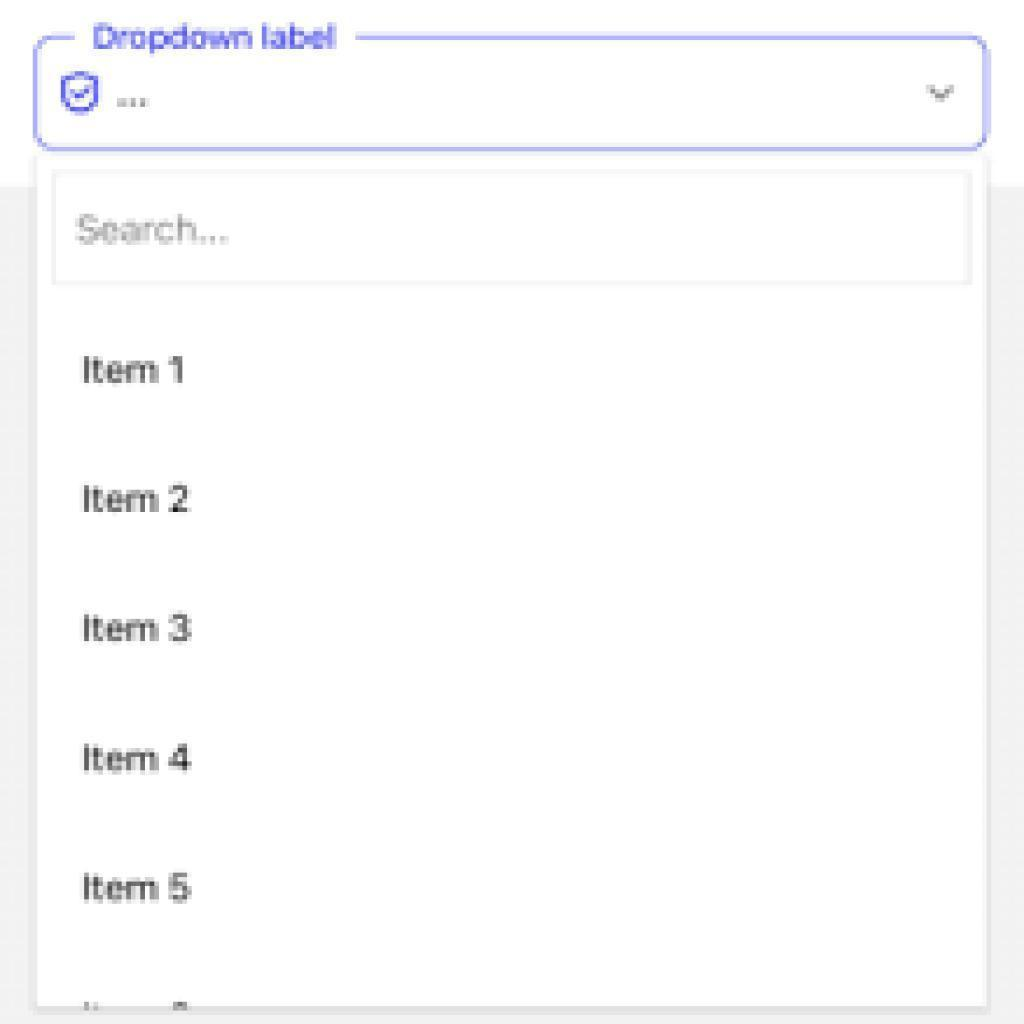dropdown: (34, 40, 987, 151)
input: (53, 170, 971, 284)
label: (76, 729, 216, 788), (87, 17, 336, 49), (77, 863, 207, 914), (77, 601, 199, 649), (77, 344, 187, 392), (83, 479, 195, 519)
